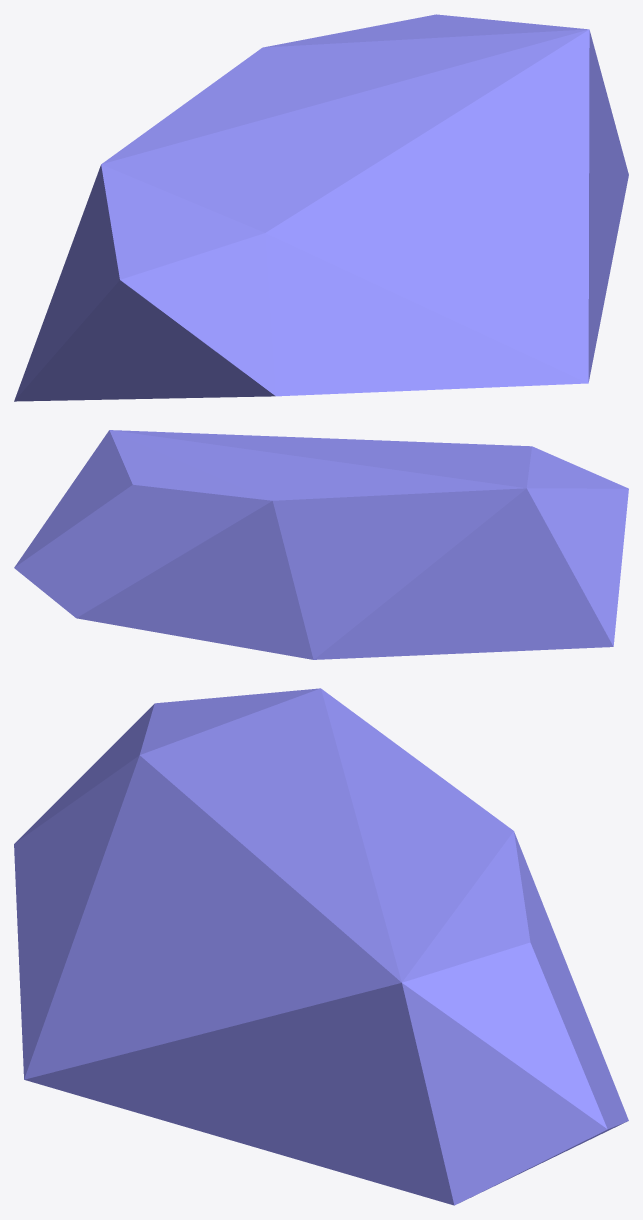
The model's file is Rock_15_Collider_01.FBX.
3 renders of one model, top to bottom at view 1: azimuth 30°, elevation 25°; view 2: azimuth 150°, elevation 25°; view 3: azimuth 270°, elevation 25°, orthographic. The views are drawn at different scales.
Parts seen in each view (by area): view 1: COLLIDER1; view 2: COLLIDER1; view 3: COLLIDER1.
Part boxes in pixels (box(x1,y1,x2,y2)): COLLIDER1: box(14, 14, 628, 401); COLLIDER1: box(14, 430, 628, 659); COLLIDER1: box(14, 688, 628, 1205).
Size of the model in its own units: 26.49 by 9.16 by 19.25.
